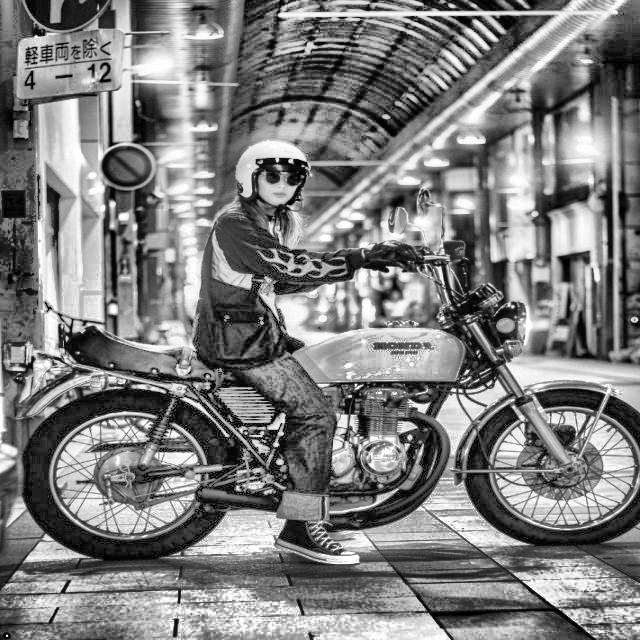Helmet: (230, 135, 316, 214)
